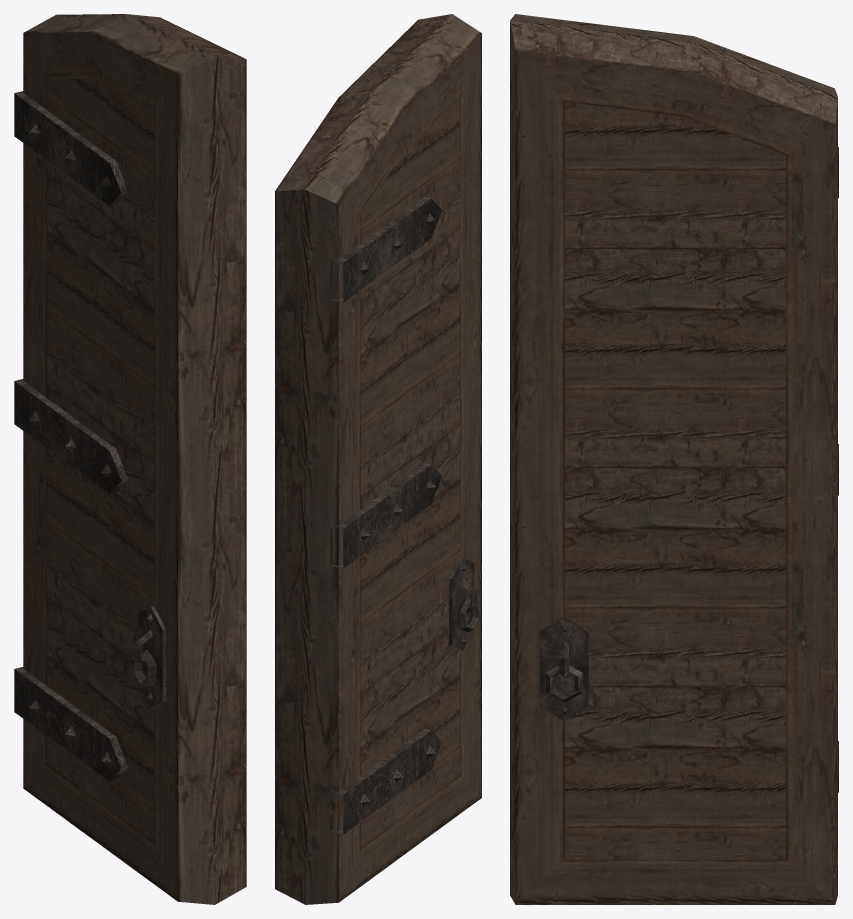
File: DoorRight.FBX
3 renders of one model, left to right at view 1: azimuth 30°, elevation 25°; view 2: azimuth 150°, elevation 25°; view 3: azimuth 270°, elevation 25°, orthographic. The views are drawn at different scales.
Visible parts, largest first — view 1: DoorRight; view 2: DoorRight; view 3: DoorRight.
Part boxes in pixels (x1,y1,x2,y2): DoorRight: (14,14,246,904); DoorRight: (275,14,481,904); DoorRight: (510,14,838,904).
Size of the model in its own units: 77.52 by 589 by 201.
